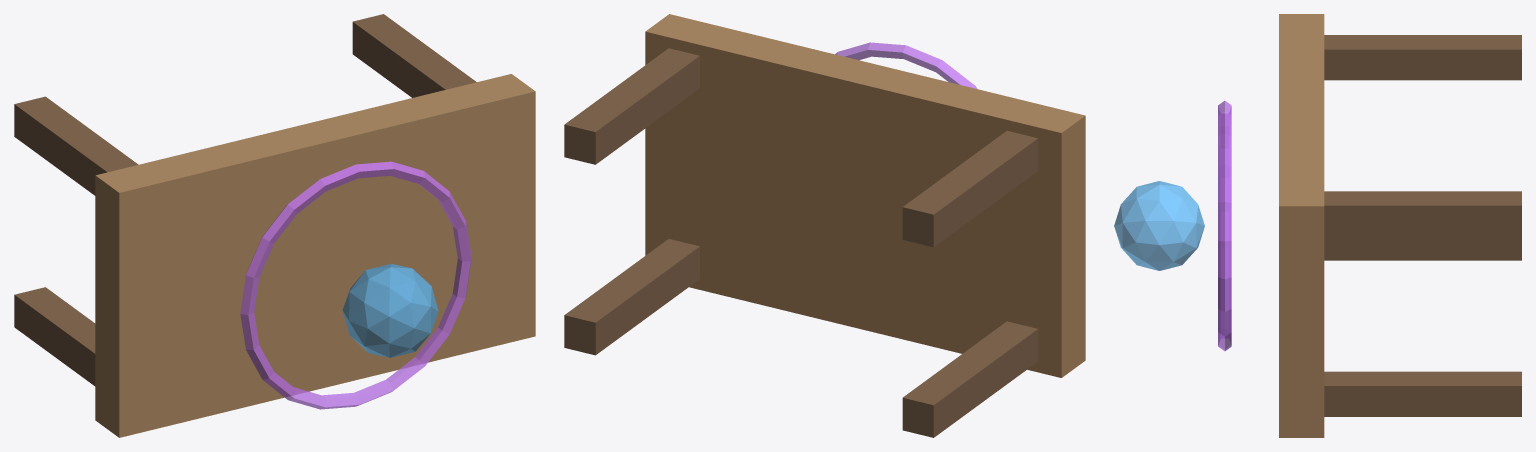
Rendered from 03_enchanting_altar.glb.
3 renders of one model, left to right at view 1: azimuth 30°, elevation 25°; view 2: azimuth 150°, elevation 25°; view 3: azimuth 270°, elevation 25°, orthographic. The views are drawn at different scales.
Parts seen in each view (by area): view 1: table_top, magic_ring, orb, leg_3, leg_4, leg_1; view 2: table_top, leg_3, leg_1, leg_4, leg_2, magic_ring; view 3: table_top, leg_2, leg_3, leg_4, orb, leg_1, magic_ring.
Part boxes in pixels (x1,y1,x2,y2): table_top: [95, 74, 535, 437]; magic_ring: [240, 161, 471, 409]; orb: [342, 263, 438, 357]; leg_3: [14, 96, 138, 195]; leg_4: [352, 14, 476, 97]; leg_1: [14, 287, 95, 386]; table_top: [645, 14, 1085, 377]; leg_3: [902, 131, 1038, 247]; leg_1: [902, 321, 1038, 437]; leg_4: [564, 48, 699, 164]; leg_2: [564, 239, 699, 355]; magic_ring: [835, 42, 977, 88]; table_top: [1279, 14, 1324, 437]; leg_2: [1324, 371, 1521, 416]; leg_3: [1324, 35, 1521, 80]; leg_4: [1324, 191, 1521, 236]; orb: [1114, 181, 1204, 270]; leg_1: [1324, 236, 1521, 260]; magic_ring: [1218, 100, 1231, 351].
Bounding box in the file's own units: 1.6 × 0.9 × 1.44.
